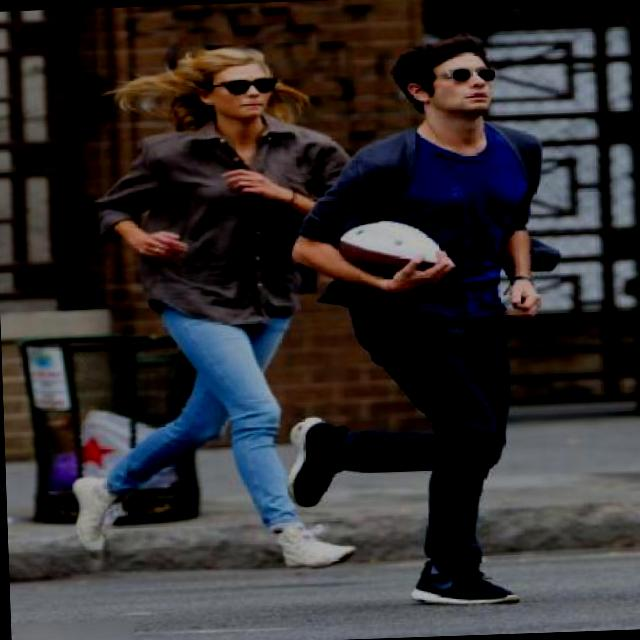Person: (59, 14, 378, 580), (298, 35, 564, 602)
